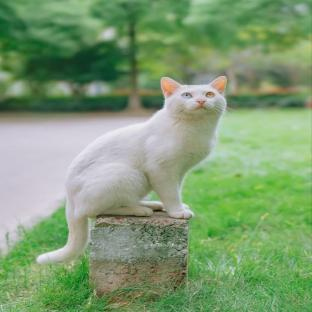Animal: (38, 76, 226, 263)
